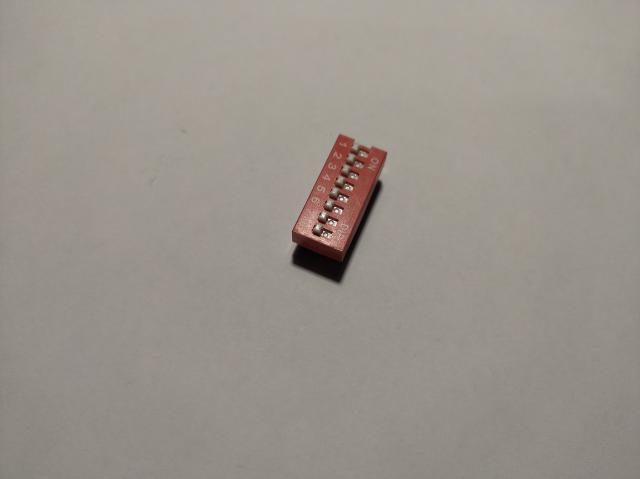dip_switch: (292, 133, 388, 263)
